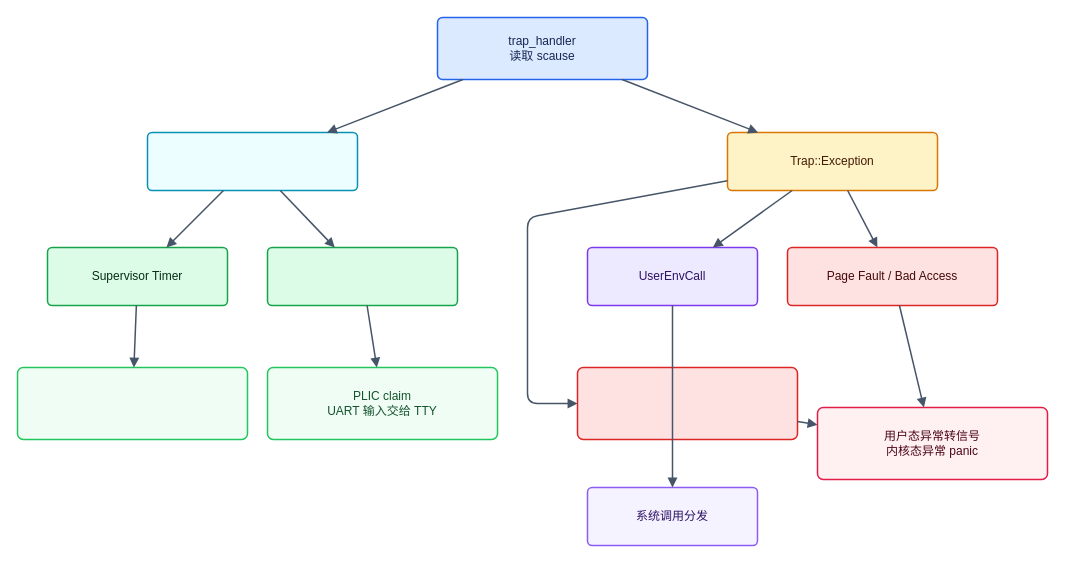
Image size: 1066x564. Some labels were removed from this diagram. The centre of each missing label's shape, as x and y in pixels:
"Breakpoint / Illegal Instruction" goes at (x=687, y=403).
"SBI timer 更新时钟 / 唤醒 / 调度标记" goes at (x=132, y=403).
"Supervisor External" goes at (x=362, y=276).
"Trap::Interrupt" goes at (x=252, y=161).
